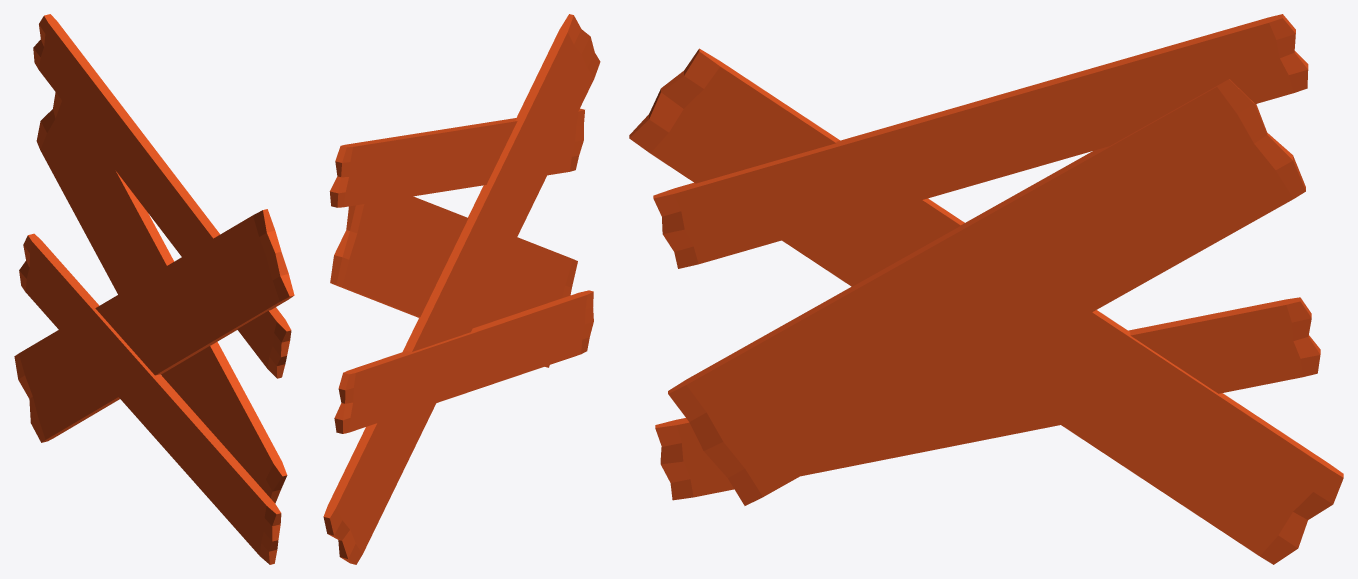
File: Papan Jendela.fbx
The picture shows the model from 3 angles, left to right: view 1: azimuth 30°, elevation 25°; view 2: azimuth 150°, elevation 25°; view 3: azimuth 270°, elevation 25°; orthographic projection. The views are drawn at different scales.
Parts seen in each view (by area): view 1: Cube.143, Cube.145, Cube.144, Cube.142; view 2: Cube.143, Cube.145, Cube.144, Cube.142; view 3: Cube.145, Cube.143, Cube.142, Cube.144.
Part boxes in pixels (bbox=[...]): Cube.143: bbox=[14, 209, 294, 442]; Cube.145: bbox=[36, 92, 287, 503]; Cube.144: bbox=[19, 233, 281, 564]; Cube.142: bbox=[33, 14, 291, 378]; Cube.143: bbox=[323, 14, 600, 564]; Cube.145: bbox=[330, 196, 577, 367]; Cube.144: bbox=[334, 290, 593, 433]; Cube.142: bbox=[329, 108, 584, 207]; Cube.145: bbox=[668, 79, 1305, 505]; Cube.143: bbox=[629, 48, 1343, 564]; Cube.142: bbox=[653, 14, 1308, 268]; Cube.144: bbox=[655, 297, 1320, 500].
Bounding box in the file's own units: 9.05 × 184 × 216.
